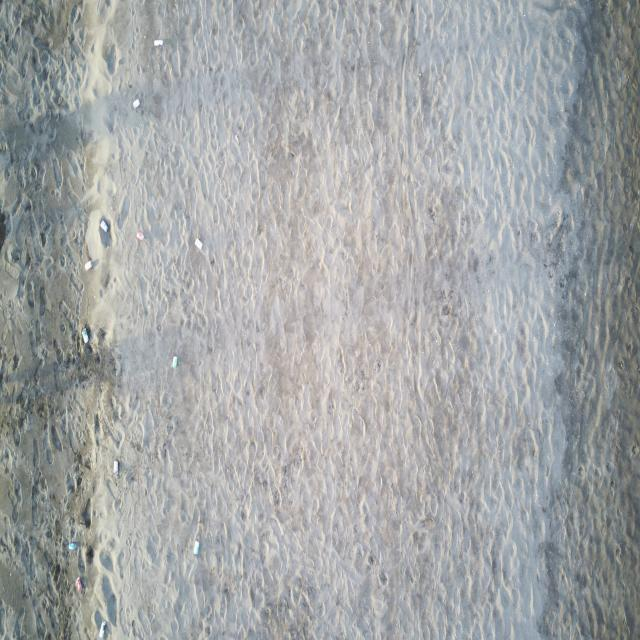Garbage: (100, 217, 108, 246), (75, 575, 83, 592), (98, 620, 105, 636), (81, 327, 88, 343), (192, 540, 199, 555), (112, 460, 119, 475), (101, 218, 108, 232), (83, 260, 92, 270), (195, 238, 203, 249), (171, 355, 178, 367), (68, 540, 76, 550), (136, 230, 143, 240), (132, 99, 139, 107), (155, 39, 163, 45)
